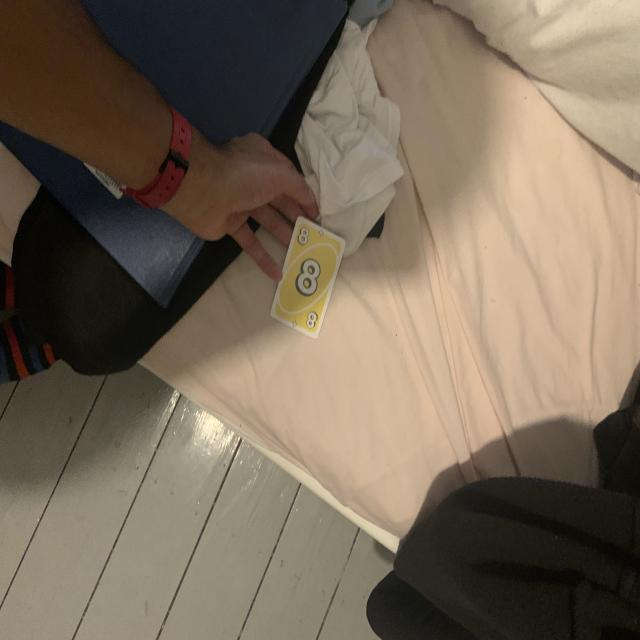lyellow-8: (295, 224, 311, 249)
